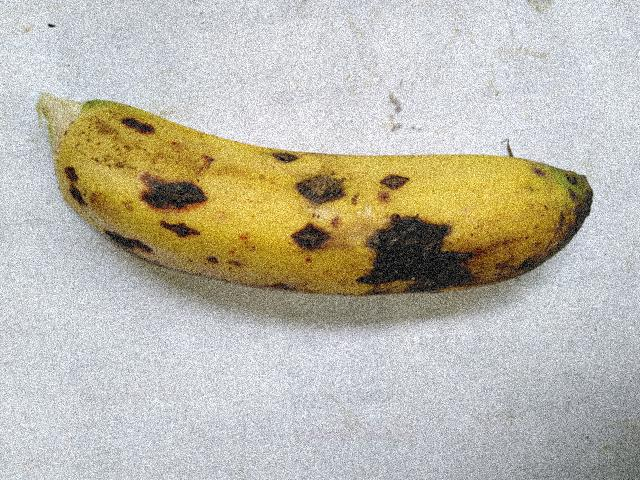rotten: (337, 209, 497, 317), (136, 160, 214, 248), (270, 138, 356, 204), (54, 162, 115, 237), (279, 214, 359, 261), (103, 91, 169, 141), (99, 223, 164, 265), (373, 162, 434, 205)
